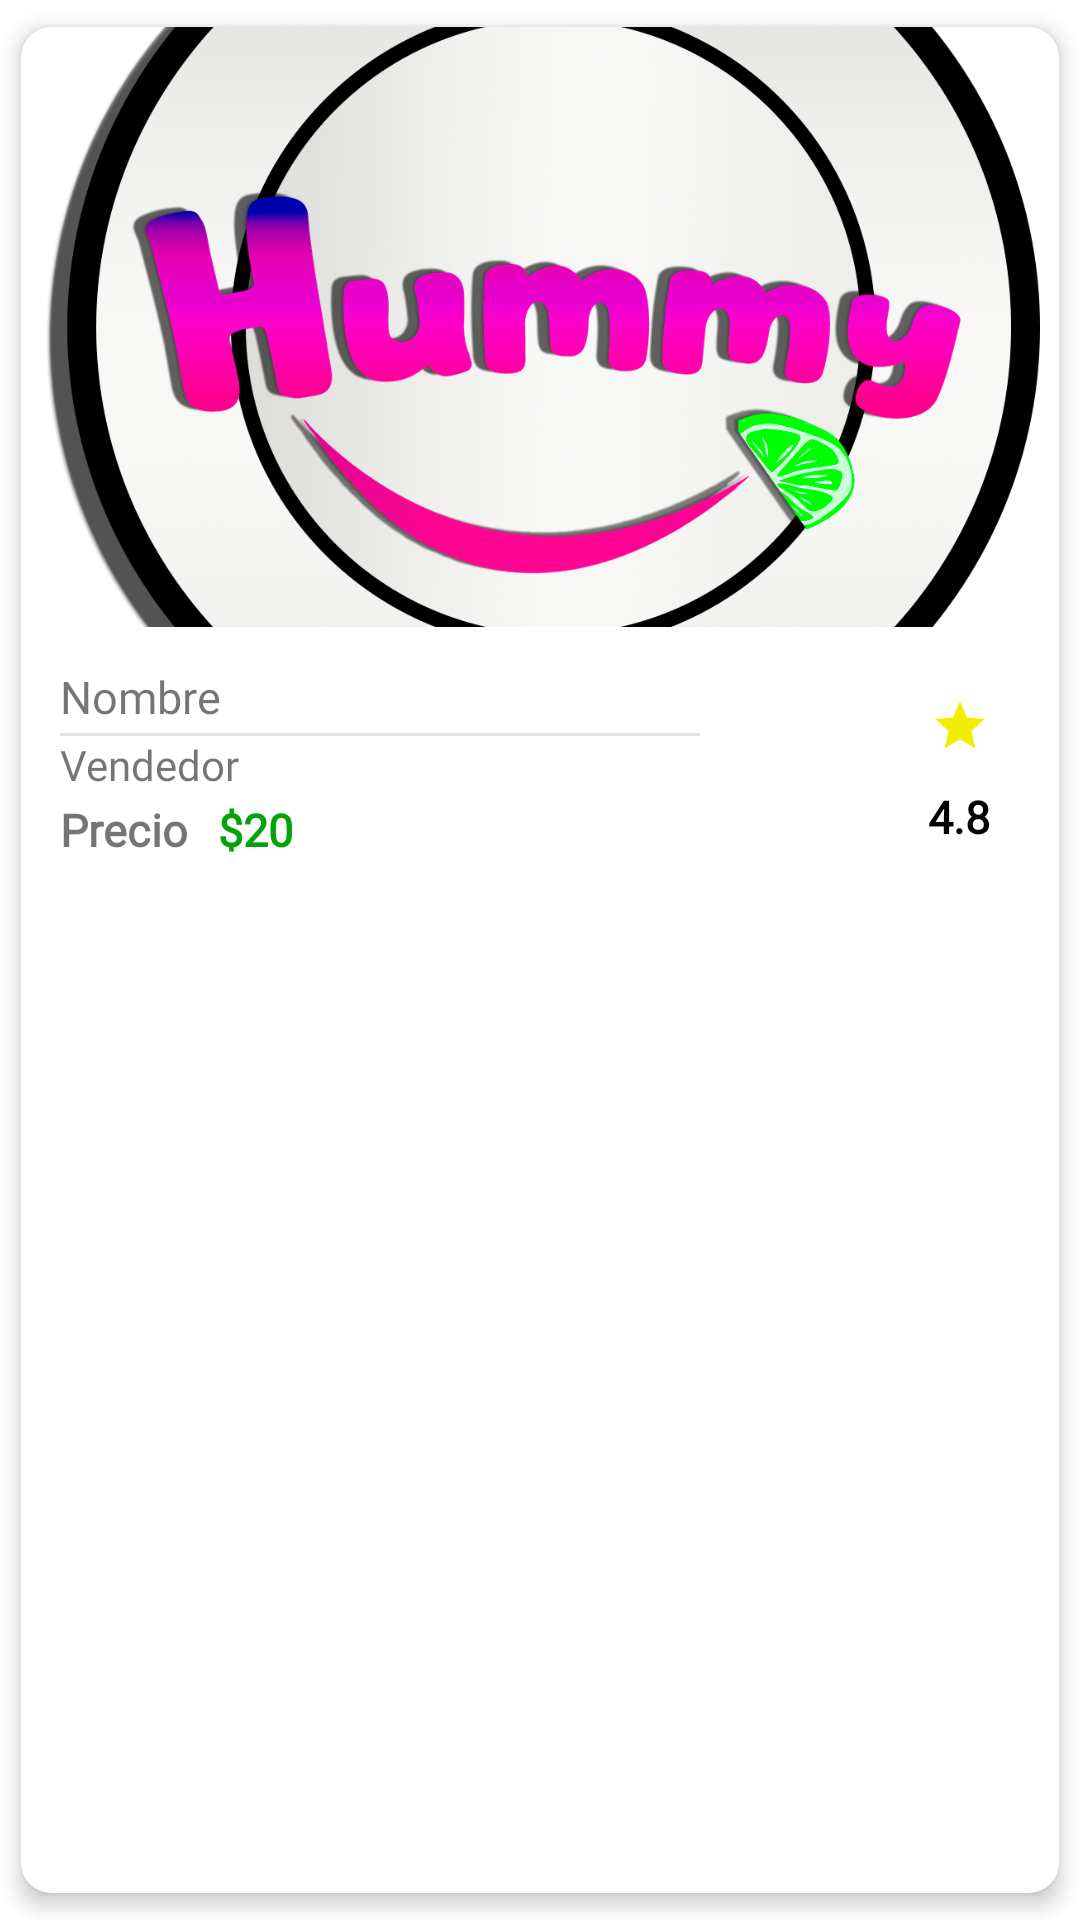

Icon bounding boxes for this 1080px x 1920px phone screenshot, format (x1=x1, y1=y1, x2=x2, y2=y2):
estrella: (x1=935, y1=701, x2=985, y2=749)
